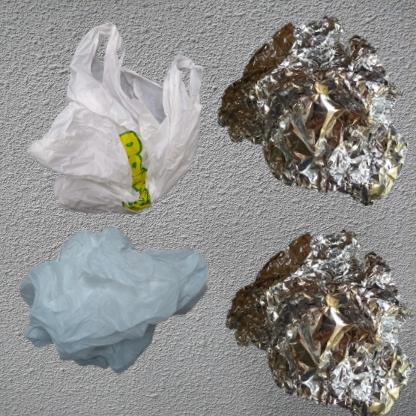aluminio: (213, 213, 416, 416), (213, 10, 416, 209)
bolsa: (10, 10, 265, 287), (10, 213, 229, 392)
